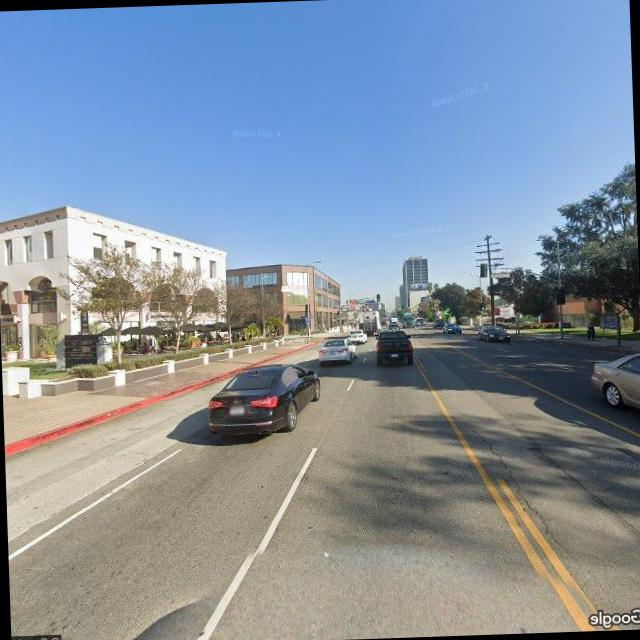pothole: (472, 422, 566, 550)
